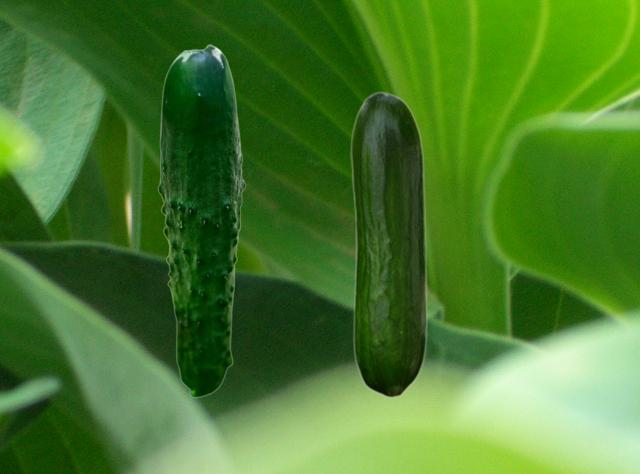cucumber: (157, 44, 245, 397), (350, 91, 427, 397)
